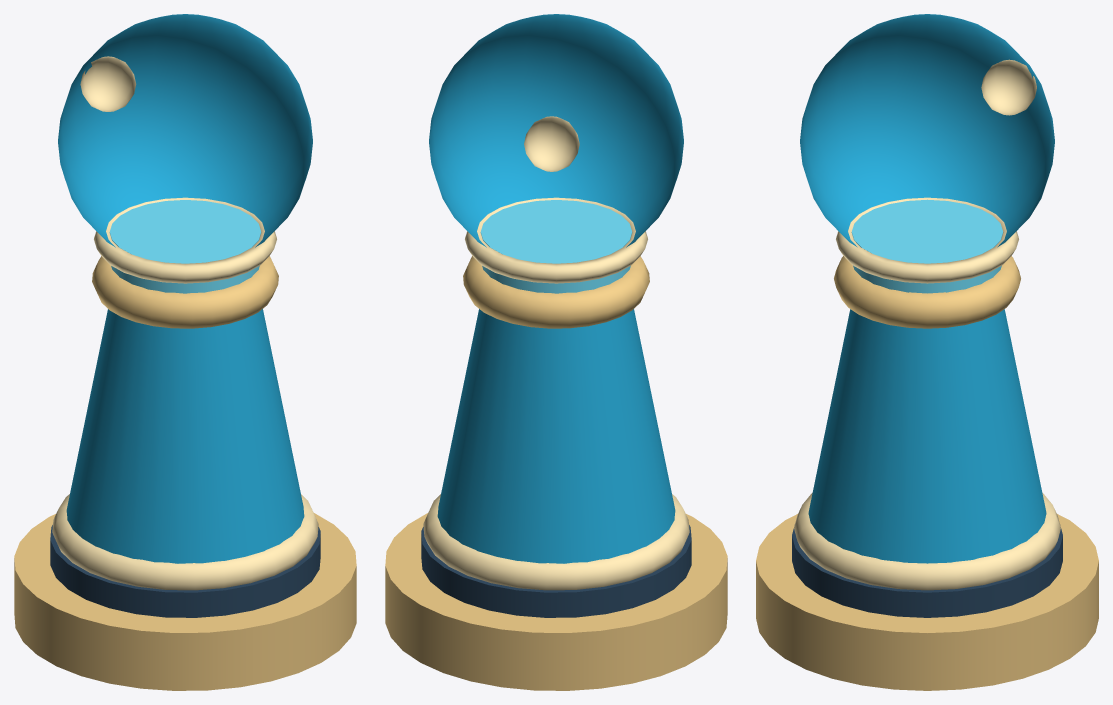
Rendered from token_cyan.glb.
3 views of the same model, side by side, from view 1: azimuth 30°, elevation 25°; view 2: azimuth 150°, elevation 25°; view 3: azimuth 270°, elevation 25° (orthographic).
Parts seen in each view (by area): view 1: cyan, gold, gold_light, cyan_hi, navy; view 2: cyan, gold, gold_light, cyan_hi, navy; view 3: cyan, gold, gold_light, cyan_hi, navy.
Boxes of the visible parts, bbox=[...] form: cyan: bbox=[58, 14, 312, 563]; gold: bbox=[14, 256, 356, 690]; gold_light: bbox=[52, 56, 318, 590]; cyan_hi: bbox=[109, 200, 261, 293]; navy: bbox=[50, 525, 320, 617]; cyan: bbox=[429, 14, 683, 563]; gold: bbox=[385, 256, 727, 690]; gold_light: bbox=[423, 116, 689, 590]; cyan_hi: bbox=[480, 200, 632, 293]; navy: bbox=[421, 525, 691, 617]; cyan: bbox=[800, 14, 1054, 563]; gold: bbox=[756, 256, 1098, 690]; gold_light: bbox=[794, 59, 1060, 590]; cyan_hi: bbox=[851, 199, 1003, 293]; navy: bbox=[792, 528, 1062, 617].
Bounding box in the file's own units: 0.86 × 1.64 × 0.86.
